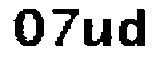0: (11, 4, 48, 54)
7: (51, 3, 81, 50)
d: (118, 8, 149, 51)
u: (80, 15, 114, 52)
